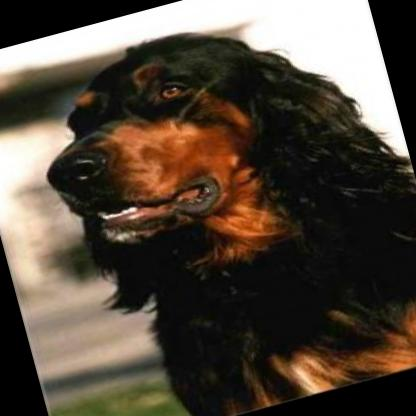Gordon_setter: (15, 0, 416, 416)
